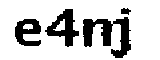4: (45, 7, 81, 51)
e: (10, 17, 41, 47)
j: (110, 5, 136, 57)
n: (82, 15, 112, 50)
